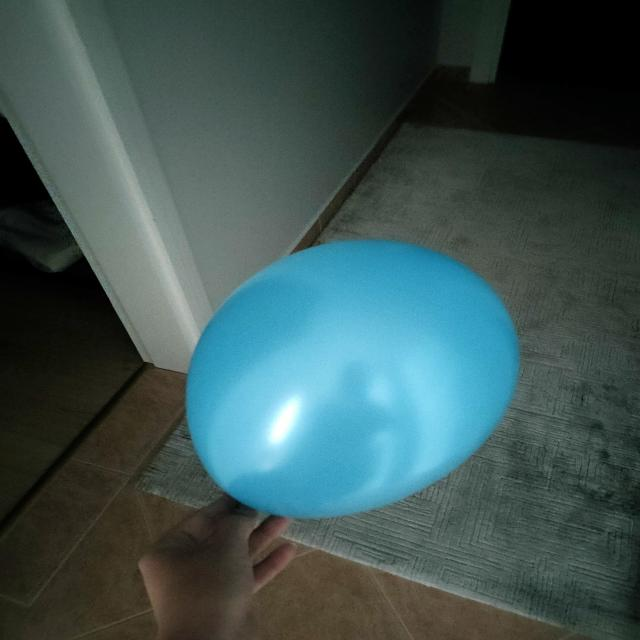blue: (190, 241, 519, 519)
